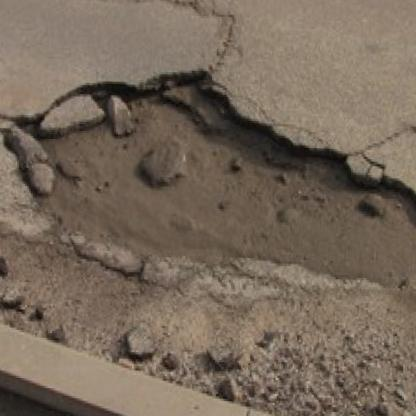pothole: (2, 60, 416, 297)
